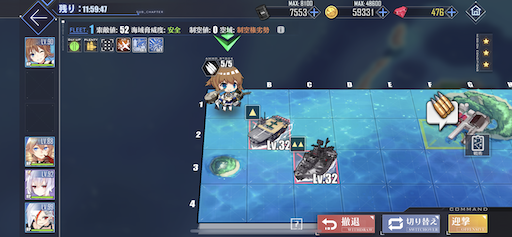lv1: (246, 106, 289, 144)
lv2: (291, 137, 338, 180)
